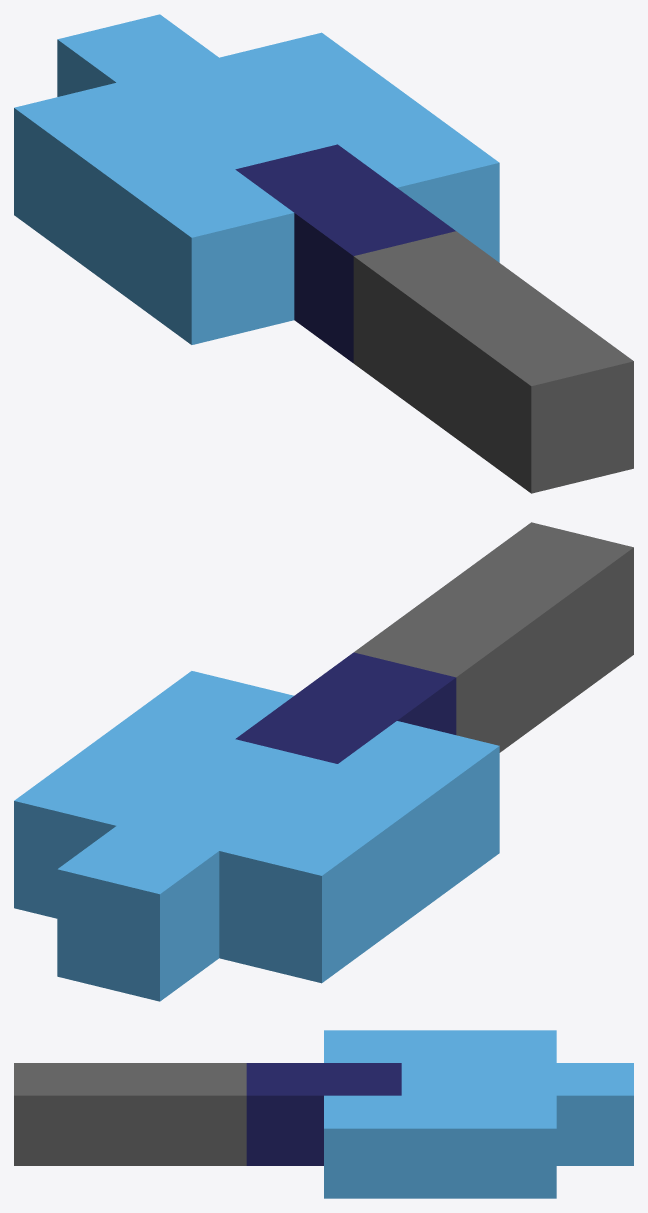
The model's file is speeder_level_5.glb.
3 renders of one model, top to bottom at view 1: azimuth 30°, elevation 25°; view 2: azimuth 150°, elevation 25°; view 3: azimuth 270°, elevation 25°, orthographic. The views are drawn at different scales.
Bounding box in the file's own units: 3 × 1 × 8.
